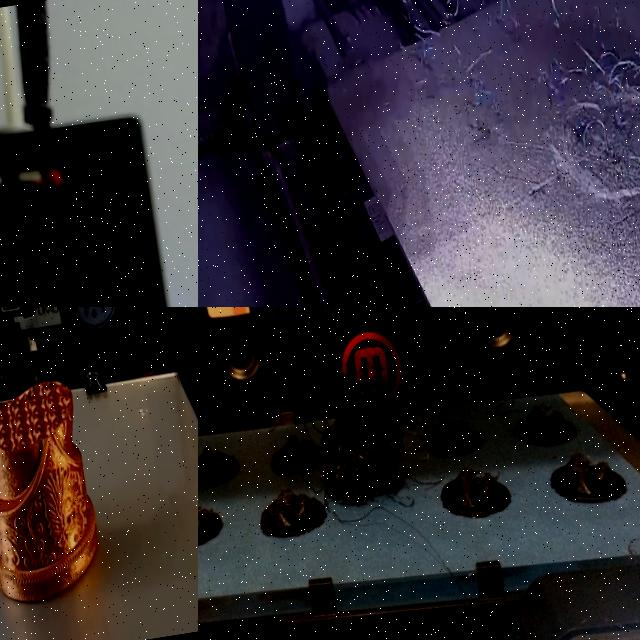spaghetti: (317, 383, 408, 509), (396, 4, 452, 80), (574, 101, 630, 170), (592, 27, 640, 101), (484, 0, 533, 56), (462, 66, 502, 133), (522, 170, 563, 222), (536, 57, 576, 106), (537, 0, 569, 38)
